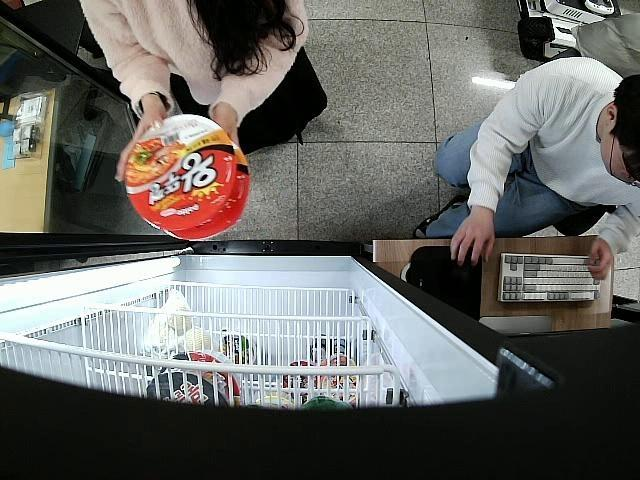10_wangTtukkeong: (128, 116, 232, 220)
